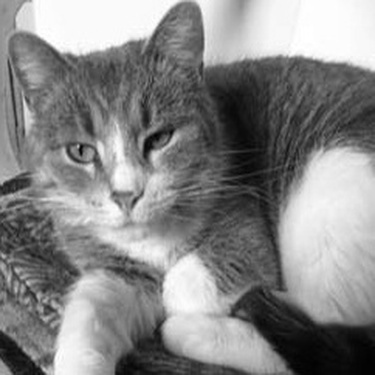cat: (1, 17, 362, 359)
